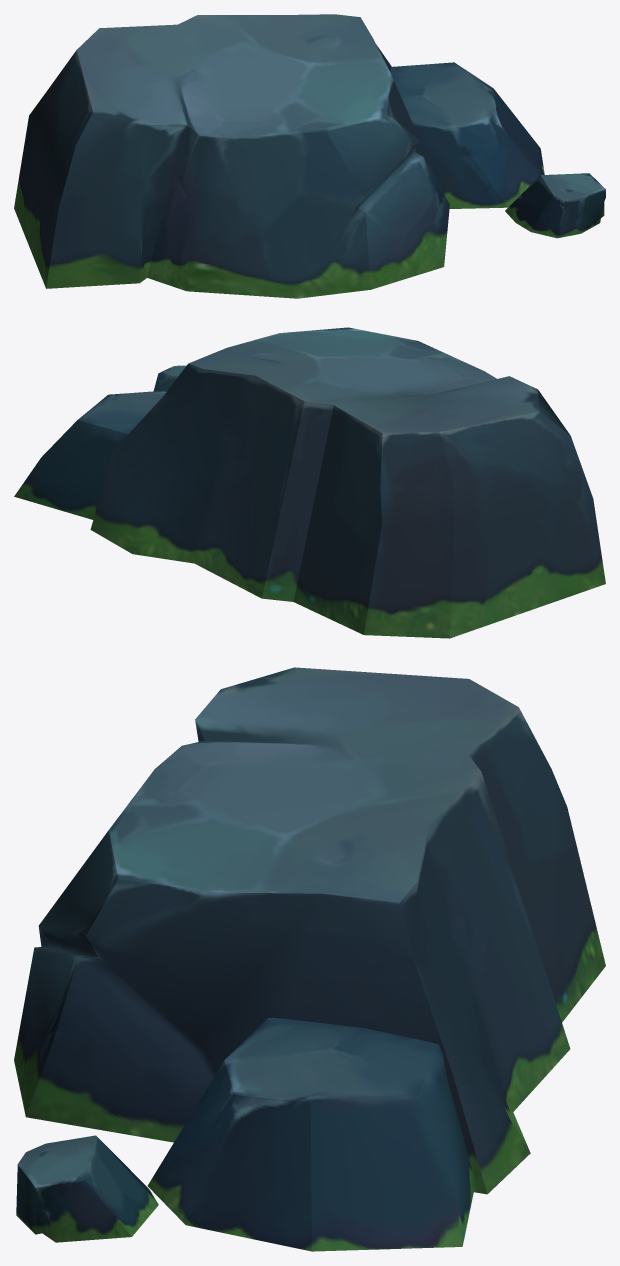
Rendered from shitou_1.FBX.
The picture shows the model from 3 angles, top to bottom: view 1: azimuth 30°, elevation 25°; view 2: azimuth 150°, elevation 25°; view 3: azimuth 270°, elevation 25°; orthographic projection. The views are drawn at different scales.
Visible parts, largest first — view 1: shitou_1; view 2: shitou_1; view 3: shitou_1.
Boxes of the visible parts, bbox=[...] form: shitou_1: bbox=[14, 14, 605, 298]; shitou_1: bbox=[14, 327, 605, 638]; shitou_1: bbox=[14, 667, 605, 1251].
Bounding box in the file's own units: 327 × 107 × 210.
